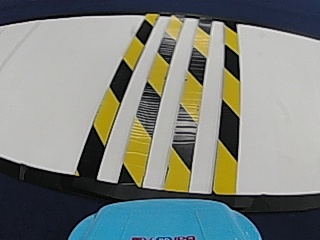bump: (76, 15, 247, 191)
